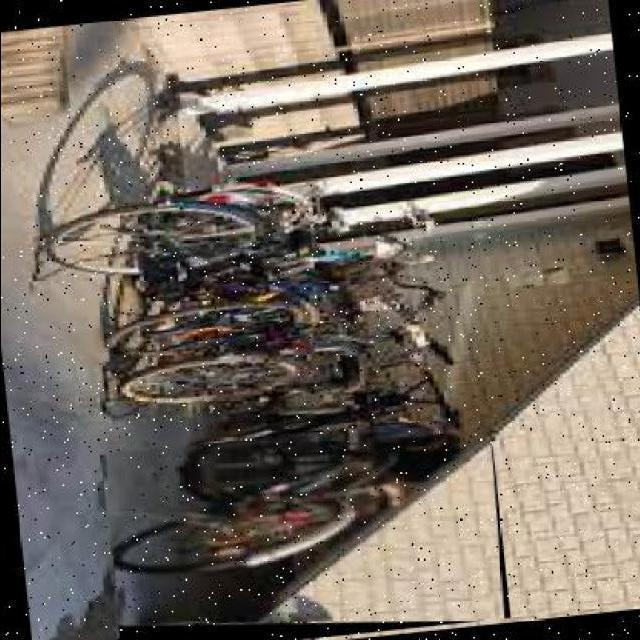bicycle: (98, 415, 512, 639)
